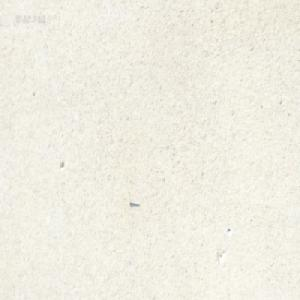Nail: (129, 199, 139, 207)
